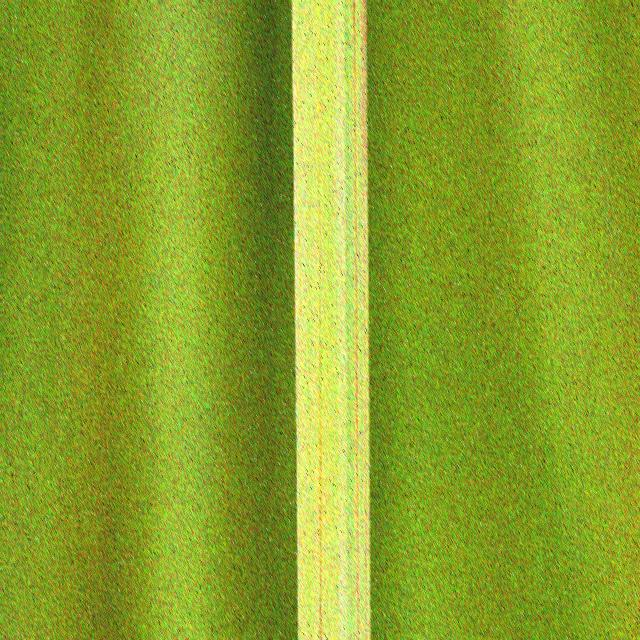BLS: (352, 0, 359, 640), (361, 0, 367, 640), (318, 143, 321, 640)
